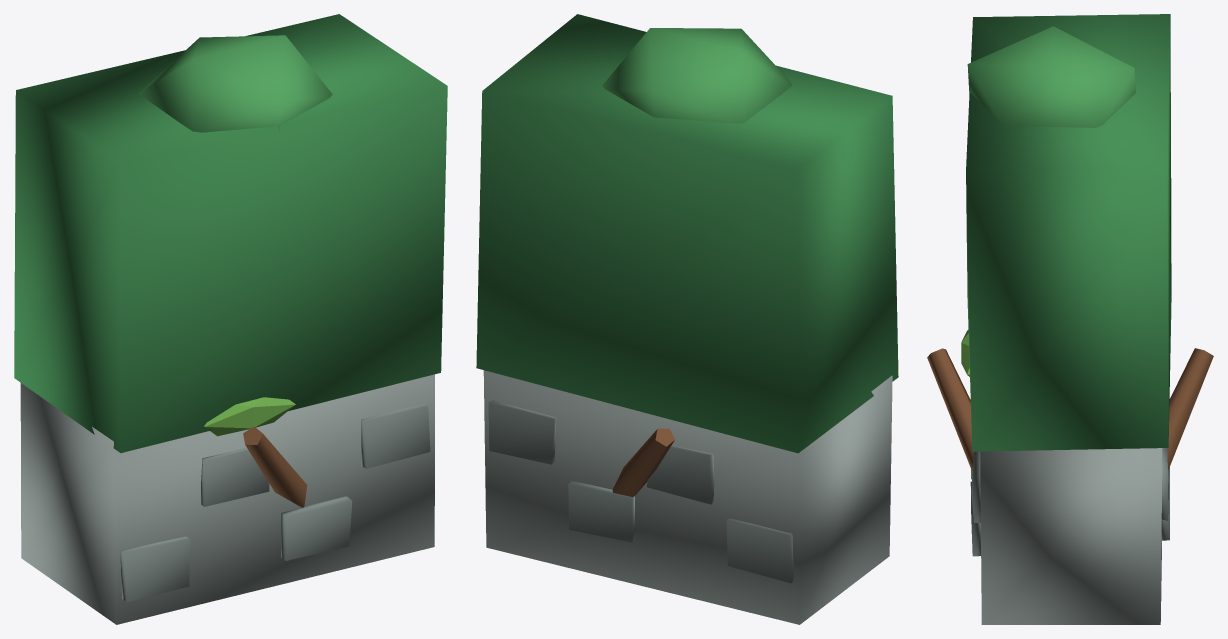
The model's file is stage1_wall_straight_02.glb.
3 renders of one model, left to right at view 1: azimuth 30°, elevation 25°; view 2: azimuth 150°, elevation 25°; view 3: azimuth 270°, elevation 25°, orthographic.
Visible parts, largest first — view 1: stage1_wall_straight_02_hedge, stage1_wall_straight_02_stone, stage1_wall_straight_02_stone2, stage1_wall_straight_02_hedge2, stage1_wall_straight_02_bark, stage1_wall_straight_02_moss; view 2: stage1_wall_straight_02_hedge, stage1_wall_straight_02_stone, stage1_wall_straight_02_hedge2, stage1_wall_straight_02_stone2, stage1_wall_straight_02_bark; view 3: stage1_wall_straight_02_hedge, stage1_wall_straight_02_stone, stage1_wall_straight_02_hedge2, stage1_wall_straight_02_bark, stage1_wall_straight_02_stone2.
Boxes of the visible parts, box(x1,y1,x2,y2) form: stage1_wall_straight_02_hedge: box(14, 14, 447, 452); stage1_wall_straight_02_stone: box(20, 374, 434, 624); stage1_wall_straight_02_stone2: box(120, 403, 430, 602); stage1_wall_straight_02_hedge2: box(139, 35, 332, 132); stage1_wall_straight_02_bark: box(243, 426, 307, 507); stage1_wall_straight_02_moss: box(204, 397, 295, 436); stage1_wall_straight_02_hedge: box(476, 14, 898, 453); stage1_wall_straight_02_stone: box(483, 370, 892, 624); stage1_wall_straight_02_hedge2: box(602, 28, 792, 123); stage1_wall_straight_02_stone2: box(488, 400, 793, 583); stage1_wall_straight_02_bark: box(612, 428, 674, 497); stage1_wall_straight_02_hedge: box(966, 14, 1171, 451); stage1_wall_straight_02_stone: box(980, 448, 1162, 624); stage1_wall_straight_02_hedge2: box(967, 26, 1135, 127); stage1_wall_straight_02_bark: box(927, 348, 1213, 471); stage1_wall_straight_02_stone2: box(970, 448, 1169, 556).
Size of the model in its own units: 1.03 by 1.53 by 0.7902.
